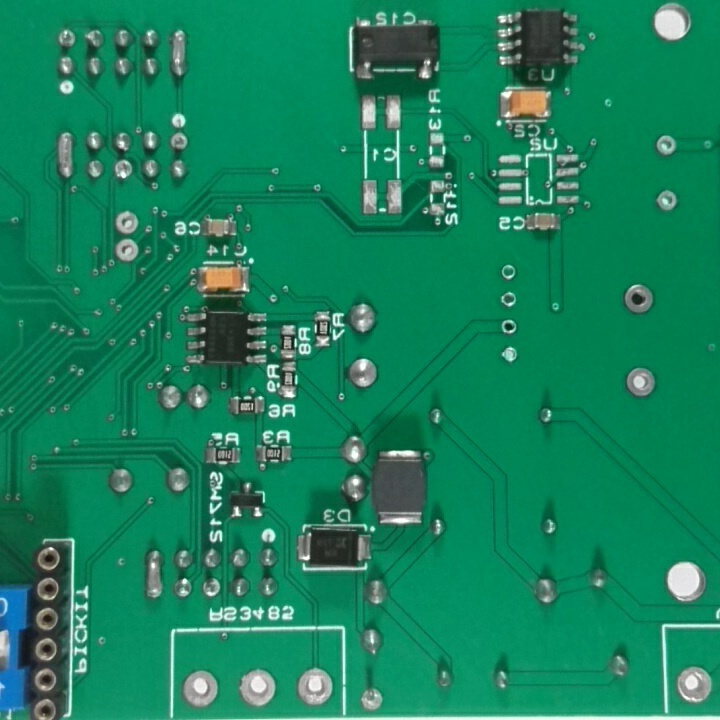F: (291, 665, 337, 709), (237, 665, 280, 709), (179, 668, 222, 711), (672, 664, 715, 706), (620, 365, 660, 402), (622, 281, 659, 318), (650, 188, 681, 216), (113, 208, 143, 236), (114, 236, 141, 266), (358, 687, 387, 713), (200, 574, 225, 600), (656, 131, 679, 159), (111, 155, 135, 181), (55, 27, 79, 53), (497, 289, 522, 310), (170, 129, 191, 153), (500, 258, 520, 283), (498, 345, 519, 366), (500, 318, 520, 339)
P: (53, 129, 78, 181), (144, 544, 165, 605), (167, 28, 190, 83)
